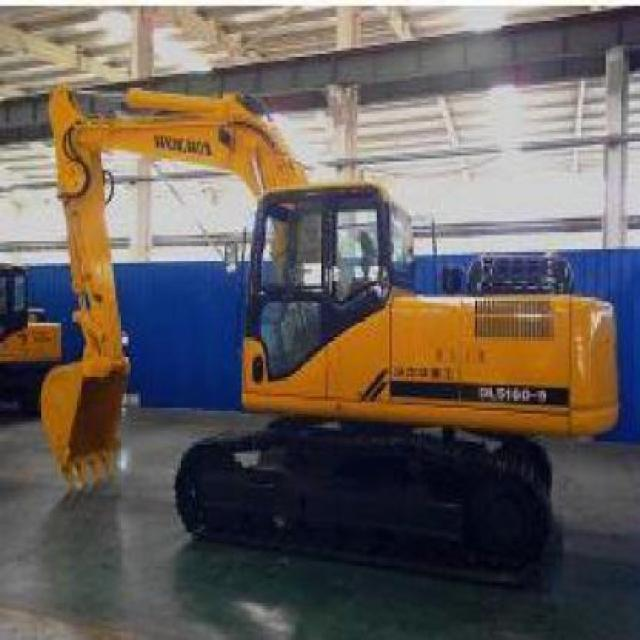Excavator: (30, 74, 616, 586)
